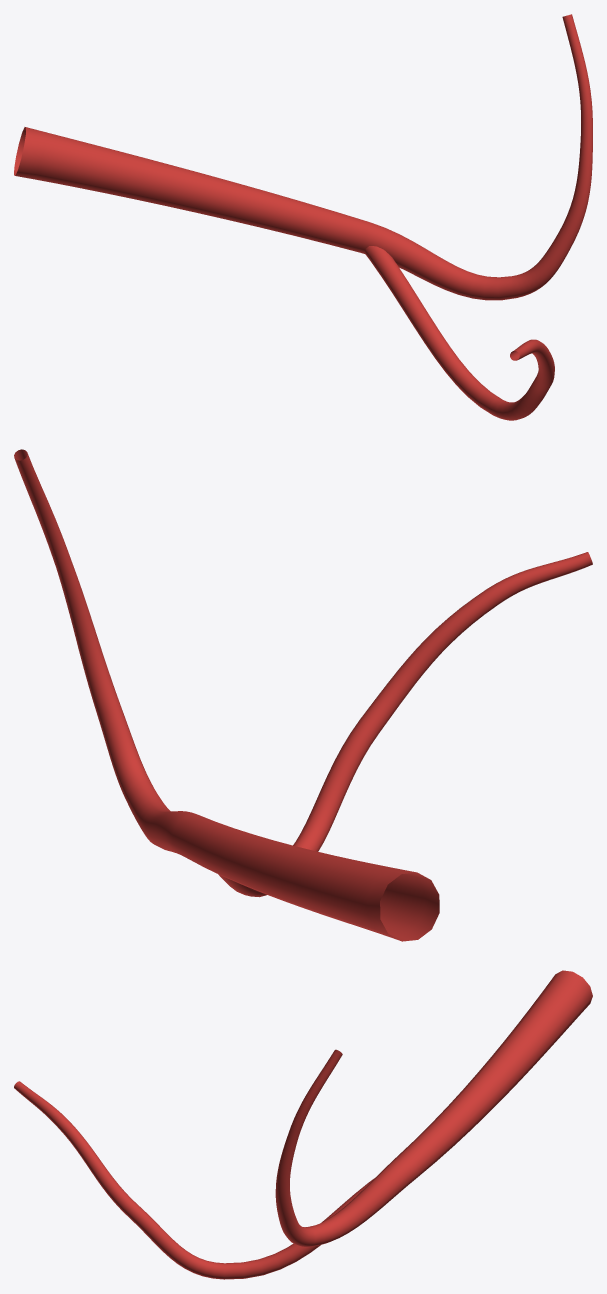
The picture shows the model from 3 angles, top to bottom: view 1: azimuth 30°, elevation 25°; view 2: azimuth 150°, elevation 25°; view 3: azimuth 270°, elevation 25°; orthographic projection. The views are drawn at different scales.
Parts seen in each view (by area): view 1: 左侧旋肱前动脉; view 2: 左侧旋肱前动脉; view 3: 左侧旋肱前动脉.
Part boxes in pixels (box(x1,y1,x2,y2)): 左侧旋肱前动脉: box(14, 14, 592, 420); 左侧旋肱前动脉: box(14, 449, 592, 941); 左侧旋肱前动脉: box(14, 970, 592, 1279).
Bounding box in the file's own units: 0.0714 × 0.0509 × 0.0934.
